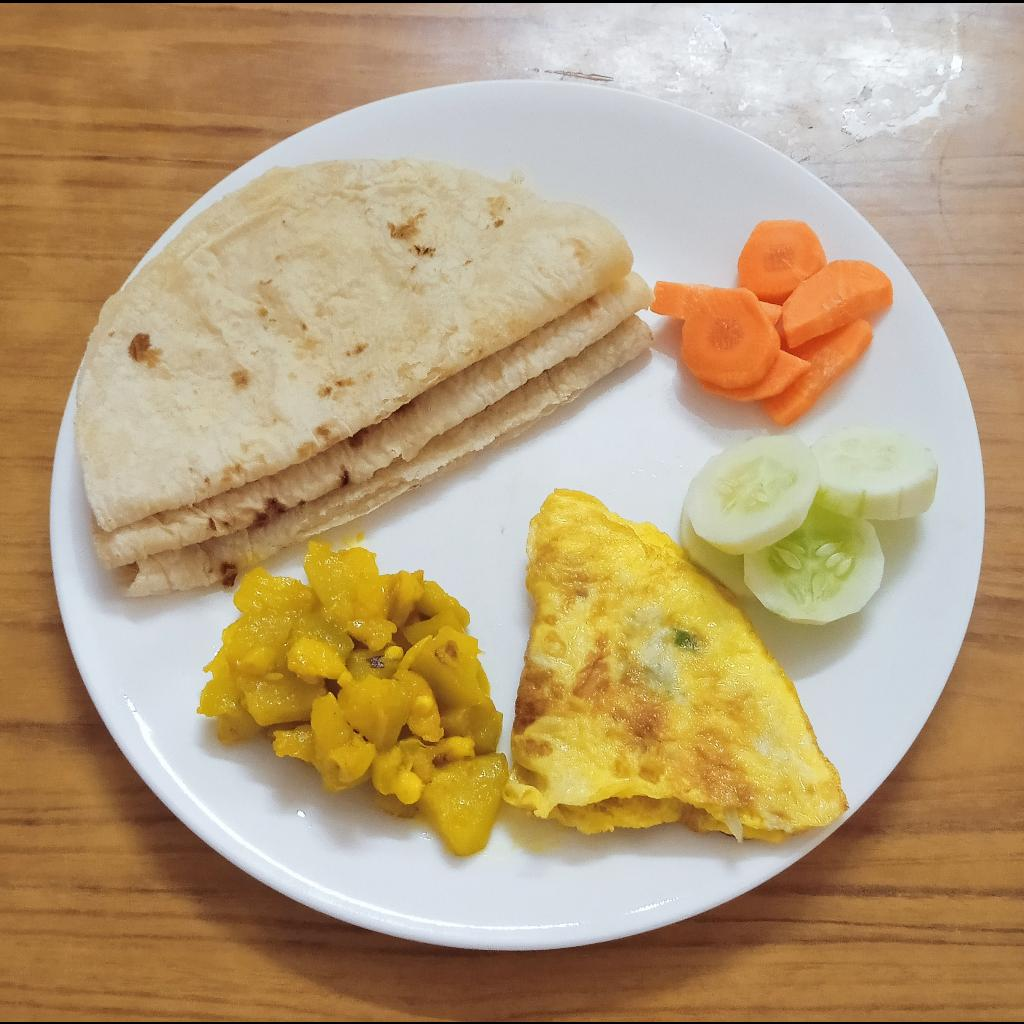carrot: (652, 216, 897, 431)
cucumber: (682, 426, 943, 627)
egg-poached: (505, 482, 854, 842)
potol: (200, 543, 514, 861)
ruti: (73, 156, 655, 596)
